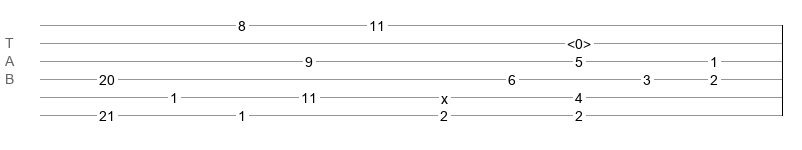1: (170, 90, 178, 100), (238, 108, 246, 118), (710, 54, 718, 64)
11: (301, 90, 317, 100), (369, 18, 385, 28)
2: (440, 108, 448, 118), (575, 108, 583, 118), (710, 72, 718, 82)
20: (99, 72, 115, 82)
21: (99, 108, 115, 118)
3: (643, 72, 651, 82)
4: (575, 90, 583, 100)
5: (575, 54, 583, 64)
6: (508, 72, 516, 82)
8: (238, 18, 246, 28)
9: (305, 54, 313, 64)
harmonic: (567, 36, 591, 46)
x: (441, 91, 448, 99)
